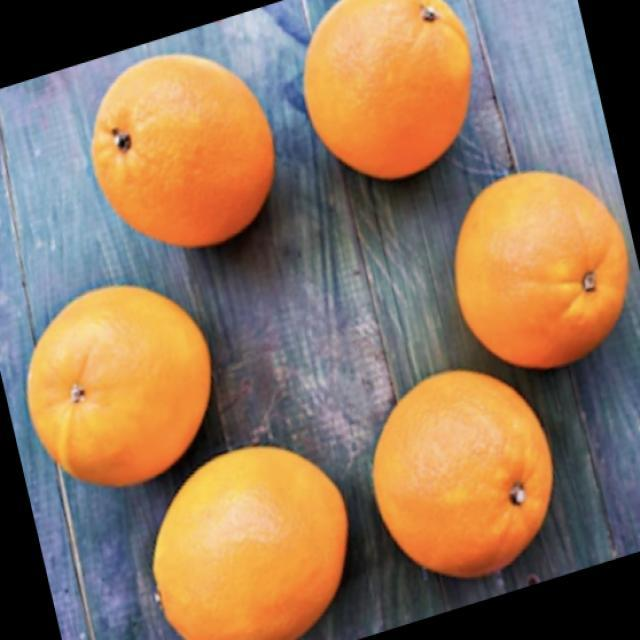matang: (153, 447, 347, 639), (374, 371, 552, 577), (28, 286, 211, 486), (91, 56, 272, 247), (456, 172, 629, 367), (304, 0, 470, 179)
